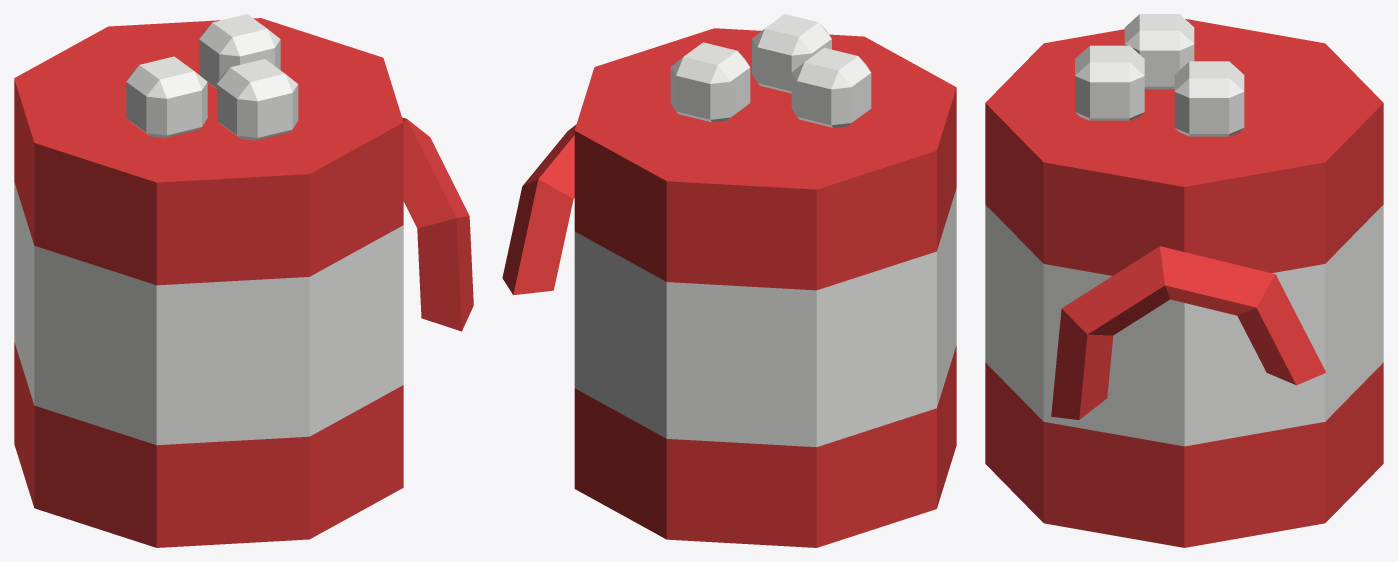
The model's file is HotCocoa.fbx.
The picture shows the model from 3 angles, left to right: view 1: azimuth 30°, elevation 25°; view 2: azimuth 150°, elevation 25°; view 3: azimuth 270°, elevation 25°; orthographic projection.
Parts seen in each view (by area): view 1: HotCocoa; view 2: HotCocoa; view 3: HotCocoa.
Part boxes in pixels (x1,y1,x2,y2): HotCocoa: [14, 14, 473, 547]; HotCocoa: [502, 14, 956, 547]; HotCocoa: [985, 14, 1383, 547].
Size of the model in its own units: 1.77 by 1.84 by 1.6.
1 material, 1 textured.
